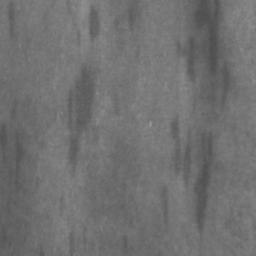Inclusion: (65, 67, 97, 169), (195, 0, 220, 70), (193, 161, 211, 232)
